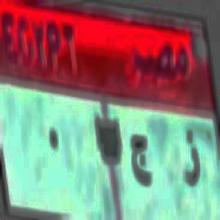0: (46, 120, 61, 156)
jeem: (128, 129, 153, 196)
zay: (181, 125, 201, 195)
